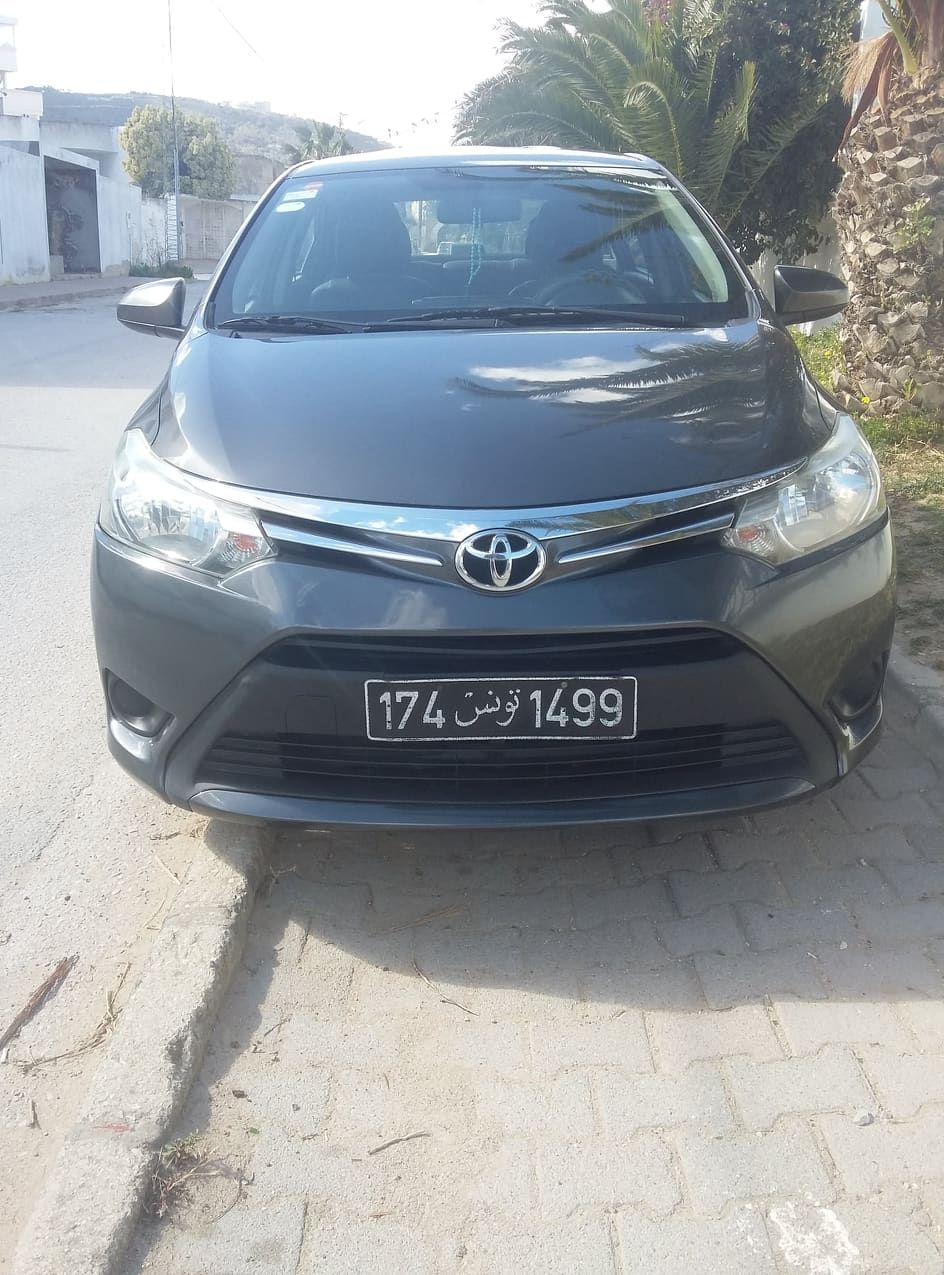LP: (364, 677, 640, 742)
